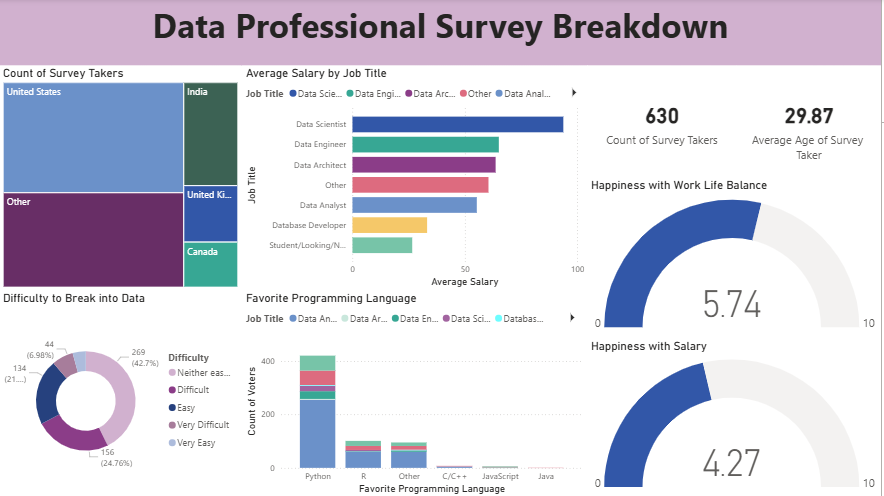

The dashboard page shown, as its layout file describes it:
{"tool":"powerbi","page":{"name":"Page 1","canvas":[1280,720],"ordinal":0},"visuals":[{"type":"textbox","box":[10.8,0,1269.9,97.2],"z":0},{"type":"card","fields":{"Values":["Count(Data Professional Survey.Unique ID)"]},"box":[857.4,97.2,213.8,162],"z":1000},{"type":"card","fields":{"Values":["Avg(Data Professional Survey.Q10 - Current Age)"]},"box":[1071.2,97.2,209.5,162],"z":2000},{"type":"barChart","title":"Average Salary by Job Title","fields":{"Category":["Data Professional Survey.Q1 - Which Title Best Fits your Current Role?.1"],"Y":["Avg(Data Professional Survey.Average Salary)"],"Series":["Data Professional Survey.Q1 - Which Title Best Fits your Current Role?.1"]},"box":[360.7,97.2,496.7,324],"z":3000},{"type":"columnChart","title":"Favorite Programming Language","fields":{"Category":["Data Professional Survey.Q5 - Favorite Programming Language.1"],"Y":["CountNonNull(Data Professional Survey.Unique ID)"],"Series":["Data Professional Survey.Q1 - Which Title Best Fits your Current Role?.1"]},"box":[360.7,421.2,494.6,298],"z":4000},{"type":"treemap","title":"Count of Survey Takers","fields":{"Group":["Data Professional Survey.Q11 - Which Country do you live in?.1"],"Values":["CountNonNull(Data Professional Survey.Q11 - Which Country do you live in?.1)"]},"box":[10.8,97.2,347.7,324],"z":5000},{"type":"gauge","title":"Happiness with Work Life Balance","fields":{"Y":["Avg(Data Professional Survey.Q6 - How Happy are you in your Current Position with the following? (Work/Life Balance))"],"MinValue":["Min(Data Professional Survey.Q6 - How Happy are you in your Current Position with the following? (Work/Life Balance))1"],"MaxValue":["Max(Data Professional Survey.Q6 - How Happy are you in your Current Position with the following? (Work/Life Balance))2"]},"box":[857.4,259.2,423.3,231.1],"z":6000},{"type":"gauge","title":"Happiness with Salary","fields":{"Y":["Avg(Data Professional Survey.Q6 - How Happy are you in your Current Position with the following? (Salary))"],"MinValue":["Min(Data Professional Survey.Q6 - How Happy are you in your Current Position with the following? (Salary))"],"MaxValue":["Max(Data Professional Survey.Q6 - How Happy are you in your Current Position with the following? (Salary))"]},"box":[857.4,490.3,423.3,228.9],"z":7000},{"type":"donutChart","title":"Difficulty to Break into Data","fields":{"Category":["Data Professional Survey.Q7 - How difficult was it for you to break into Data?"],"Y":["CountNonNull(Data Professional Survey.Q7 - How difficult was it for you to break into Data?)"]},"box":[10.8,421.2,349.9,298],"z":8000}]}

Visuals, with their boxes in screenshot pixels (x1, y1, x2, y2), scaled from the page's 1280x720 canvas onto the 884x496 screenshot:
textbox: [left=7, top=0, right=883, bottom=67]
card - Count(Data Professional Survey.Unique ID): [left=592, top=67, right=740, bottom=179]
card - Avg(Data Professional Survey.Q10 - Current Age): [left=740, top=67, right=883, bottom=179]
"Average Salary by Job Title" barChart: [left=249, top=67, right=592, bottom=290]
"Favorite Programming Language" columnChart: [left=249, top=290, right=591, bottom=495]
"Count of Survey Takers" treemap: [left=7, top=67, right=248, bottom=290]
"Happiness with Work Life Balance" gauge: [left=592, top=179, right=883, bottom=338]
"Happiness with Salary" gauge: [left=592, top=338, right=883, bottom=495]
"Difficulty to Break into Data" donutChart: [left=7, top=290, right=249, bottom=495]
